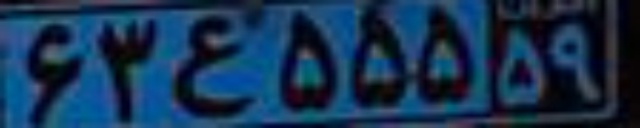3: (95, 18, 160, 123)
5: (346, 11, 407, 109), (279, 9, 337, 110), (418, 5, 476, 105), (495, 24, 546, 109)
6: (20, 21, 82, 125)
9: (548, 21, 604, 106)
ain: (168, 14, 254, 119)
